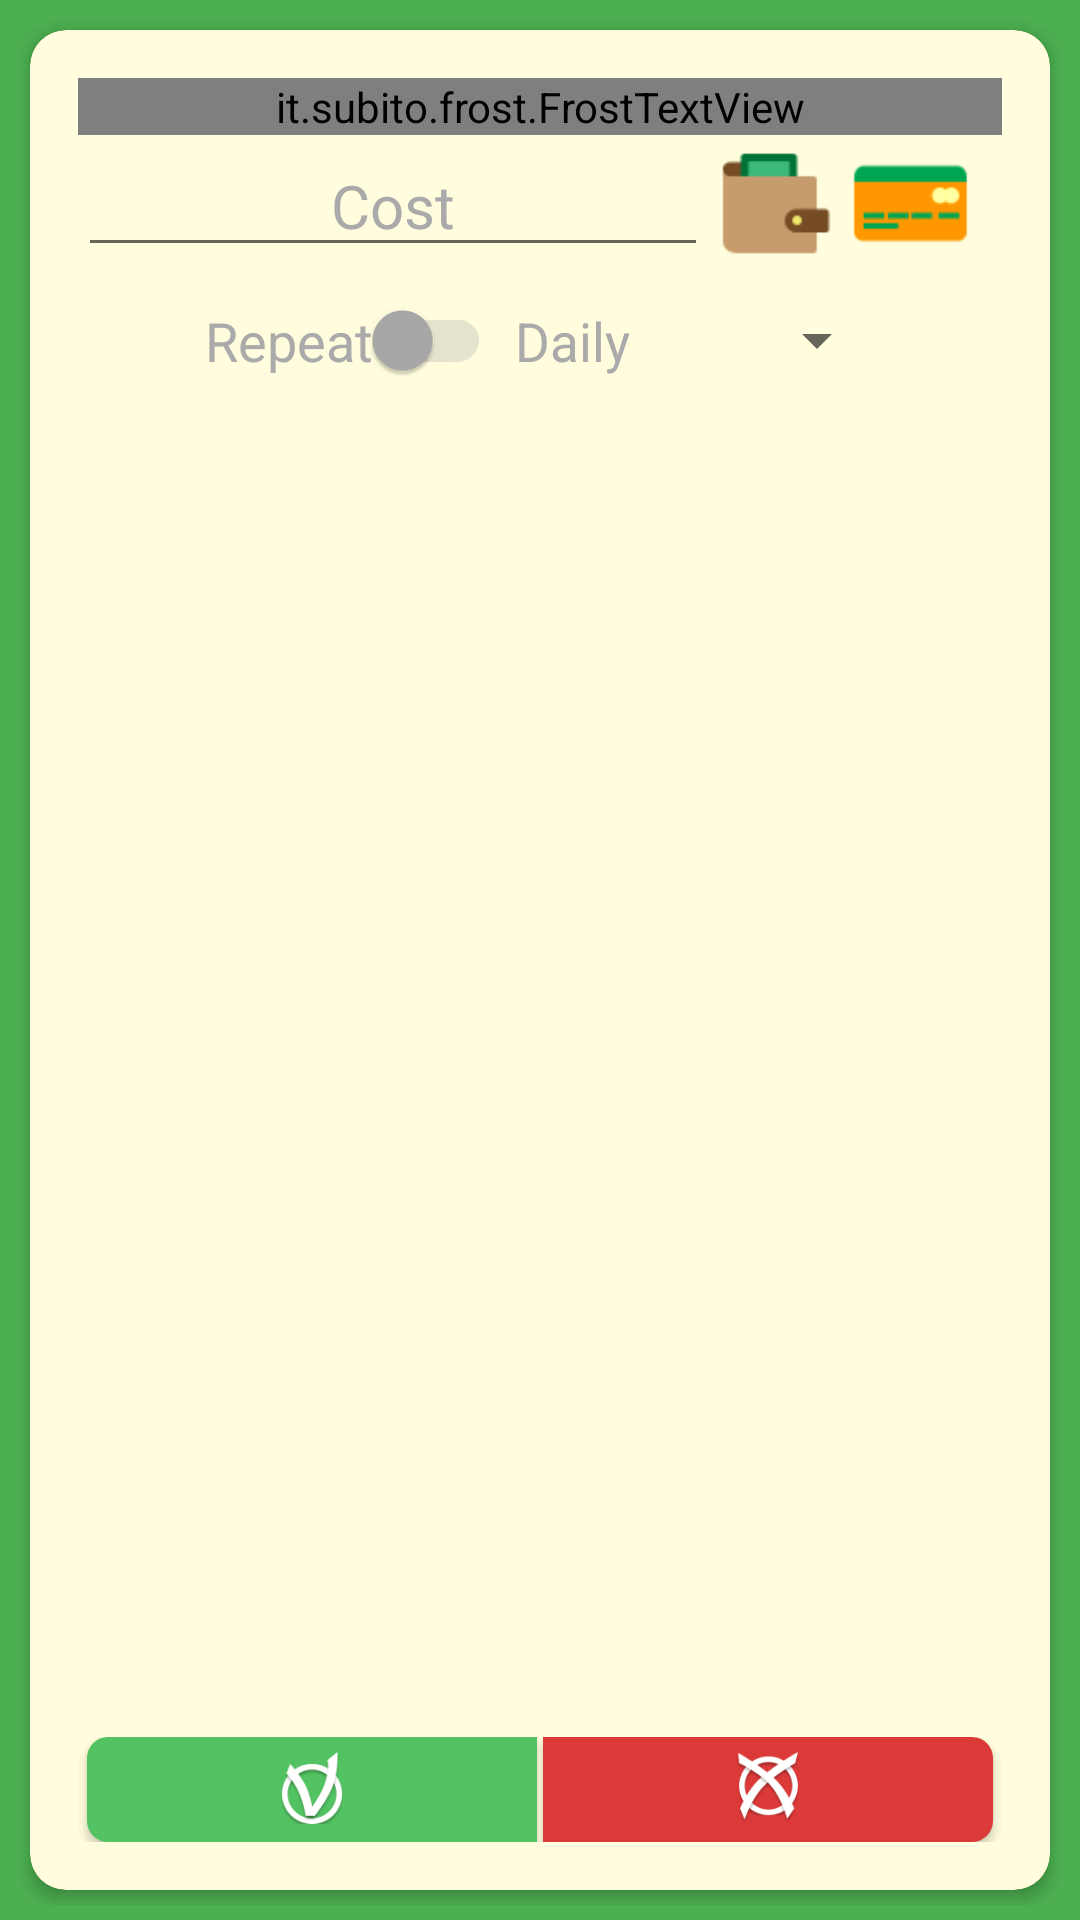

Screen size 1080px×1920px. Icon name, then its box in pixels as rect(x1, y1, x2, y2):
card: rect(853, 164, 968, 242)
cash: rect(722, 153, 830, 254)
